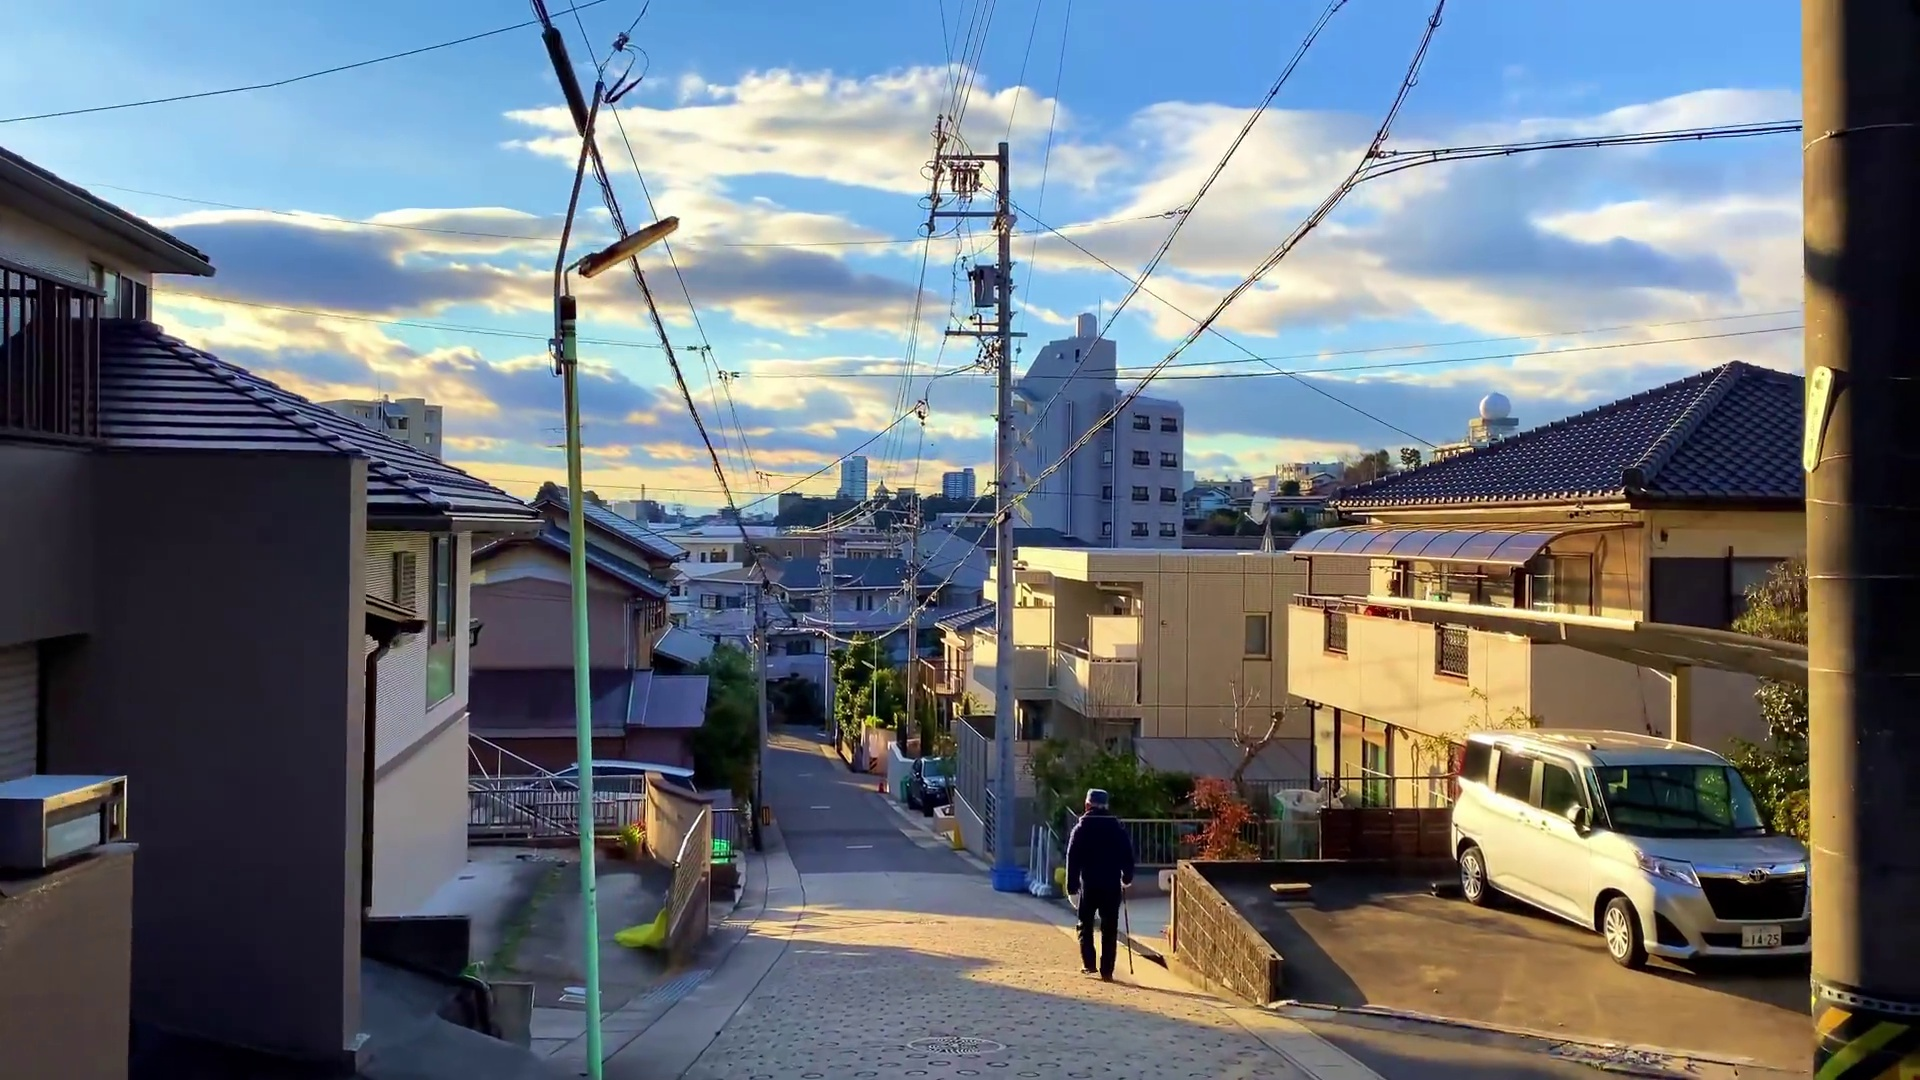person: (1062, 790, 1138, 982)
